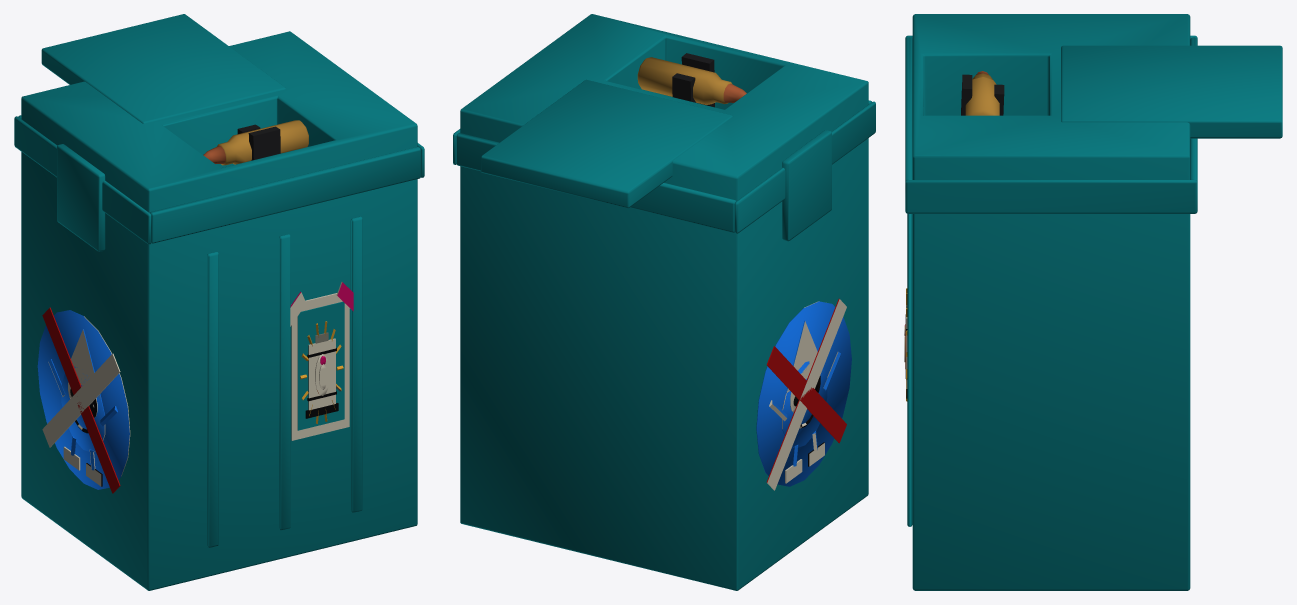
File: tambor_matraca.glb
The picture shows the model from 3 angles, left to right: view 1: azimuth 30°, elevation 25°; view 2: azimuth 150°, elevation 25°; view 3: azimuth 270°, elevation 25°; orthographic projection. The views are drawn at different scales.
Visible parts, largest first — view 1: tambor_matraca; view 2: tambor_matraca; view 3: tambor_matraca.
Part boxes in pixels (x1,y1,x2,y2): tambor_matraca: [14, 14, 424, 590]; tambor_matraca: [453, 14, 875, 590]; tambor_matraca: [904, 14, 1282, 590].
Size of the model in its own units: 0.1279 by 0.1789 by 0.1381.
